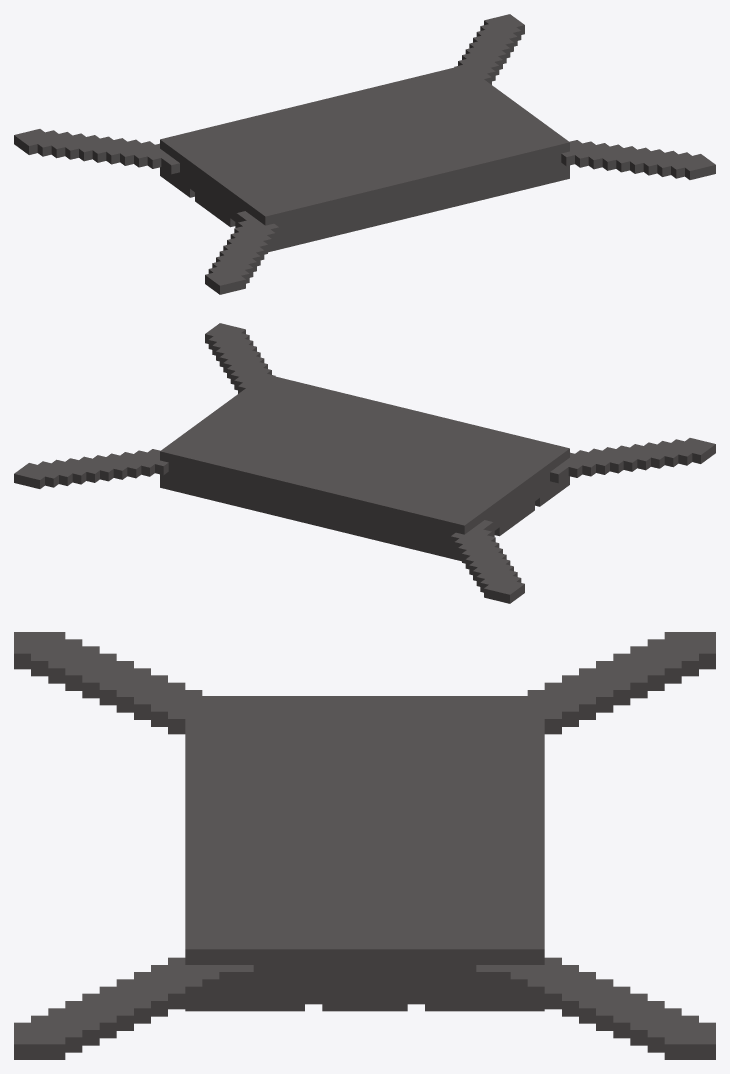
Rendered from DRON-12.obj.
3 views of the same model, one above another, from view 1: azimuth 30°, elevation 25°; view 2: azimuth 150°, elevation 25°; view 3: azimuth 270°, elevation 25° (orthographic). The views are drawn at different scales.
Size of the model in its own units: 5.7 by 0.4 by 4.1.
1 material, 1 textured.
